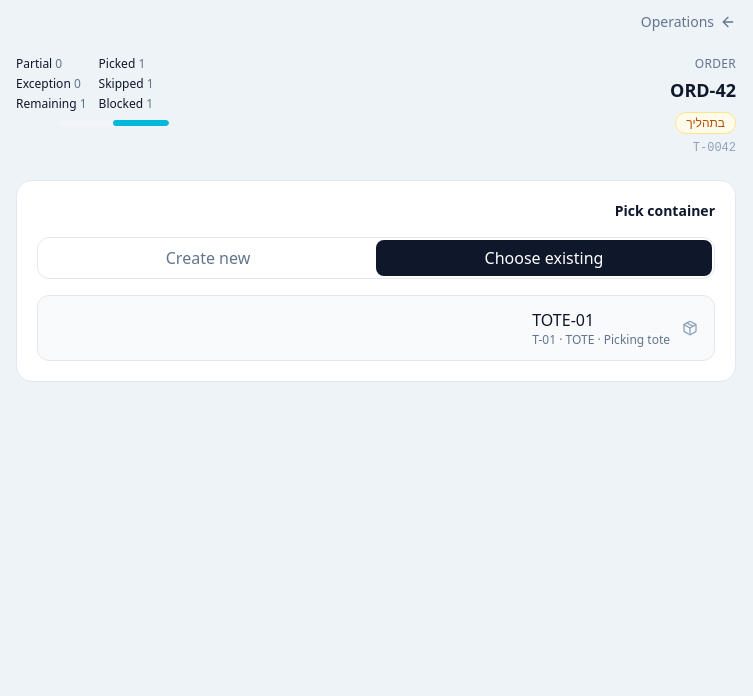
Scenario: PickTaskPage › shows guided picking after a container is selected
The image size is (753, 696).
expect the text "Pick container" is shown: met, box [615, 201, 715, 220]
What coordinates should you click on to do the following:
click the button "TOTE-01 T-01 · TOTE · Picking tote"
I would click on:
 (563, 320)
Its box is [37, 295, 715, 361].
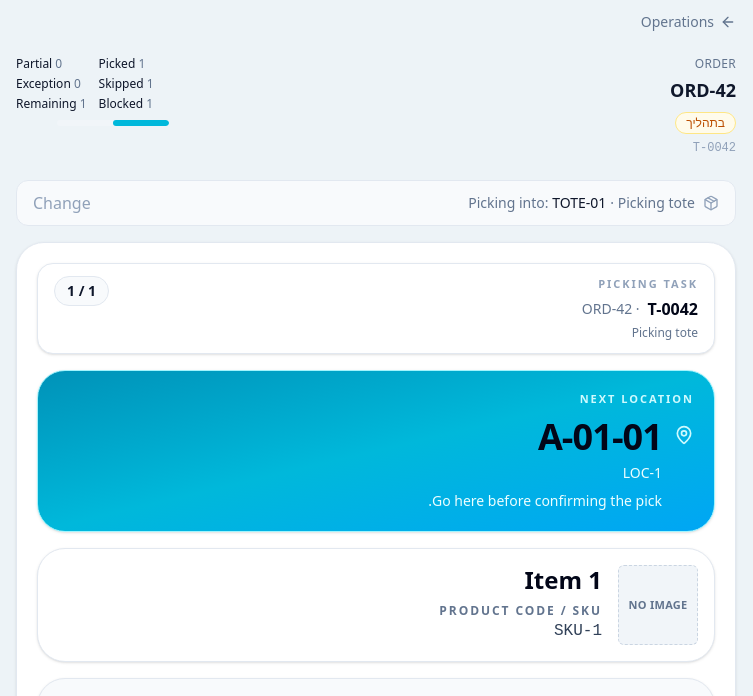
expect the text "Picking into:" is shown: met, box [468, 193, 552, 212]
